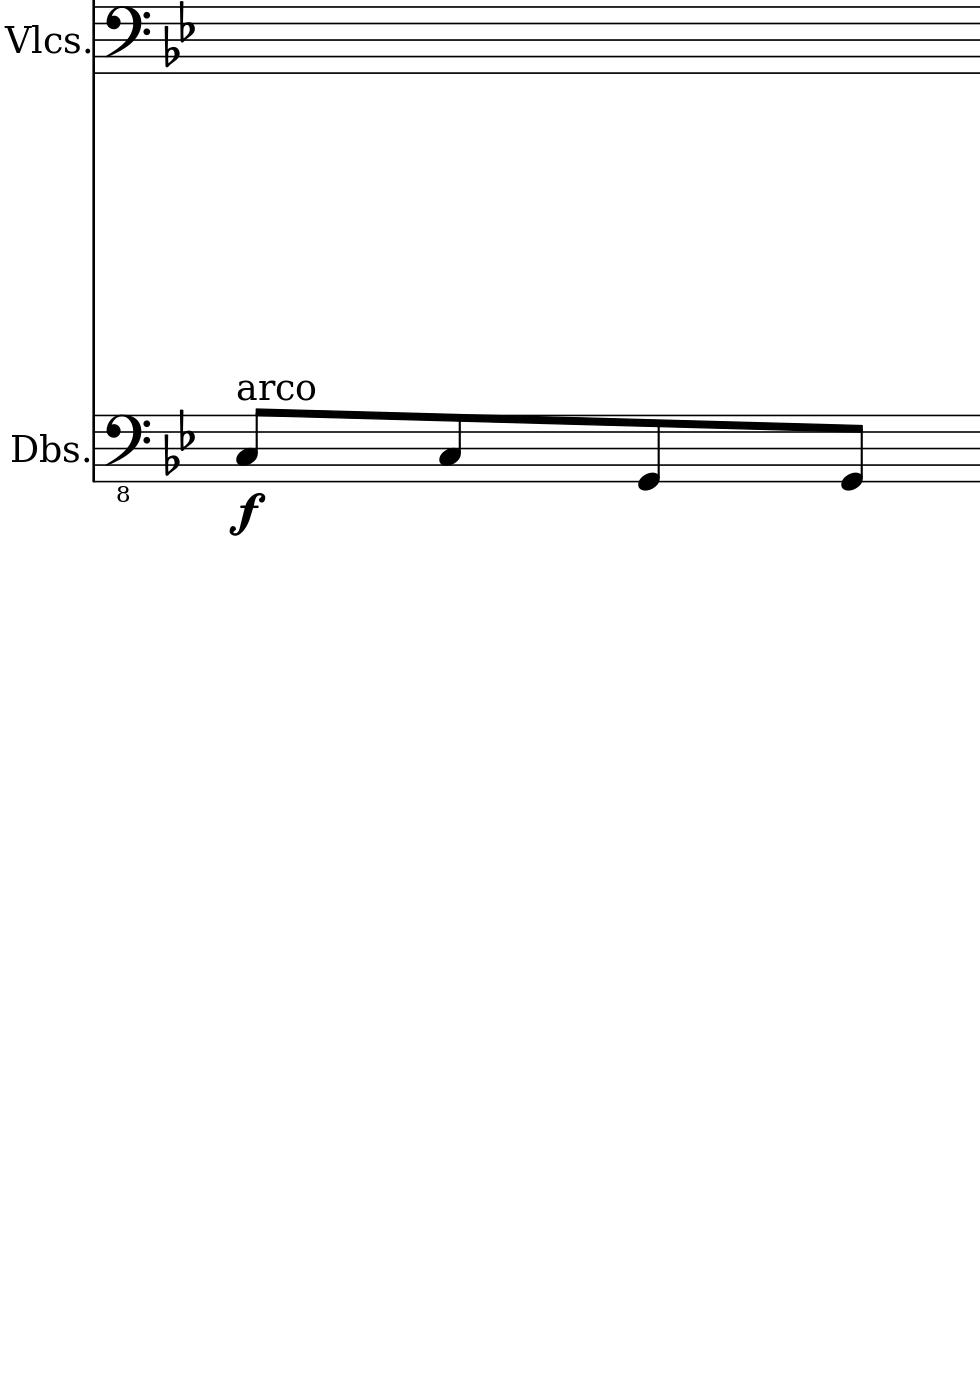8_0: (839, 413, 867, 492), (636, 413, 663, 493)
8_3: (233, 406, 268, 484), (436, 411, 463, 484)
B_F: (162, 408, 196, 476), (162, 1, 194, 68)
Dbs: (7, 428, 78, 466)
Fclef: (102, 2, 151, 75)
Lower_Fclef: (102, 411, 150, 502)
Single_barline: (87, 6, 101, 74), (87, 415, 101, 481)
Vlc: (4, 18, 62, 59)
f: (227, 491, 267, 538)
